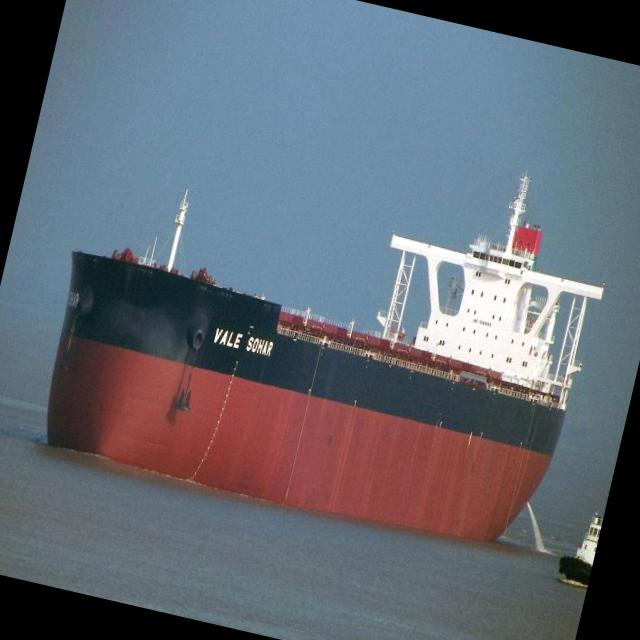Tanker: (48, 175, 602, 540)
Tug: (558, 515, 602, 585)
